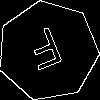F: (23, 25, 70, 80)
